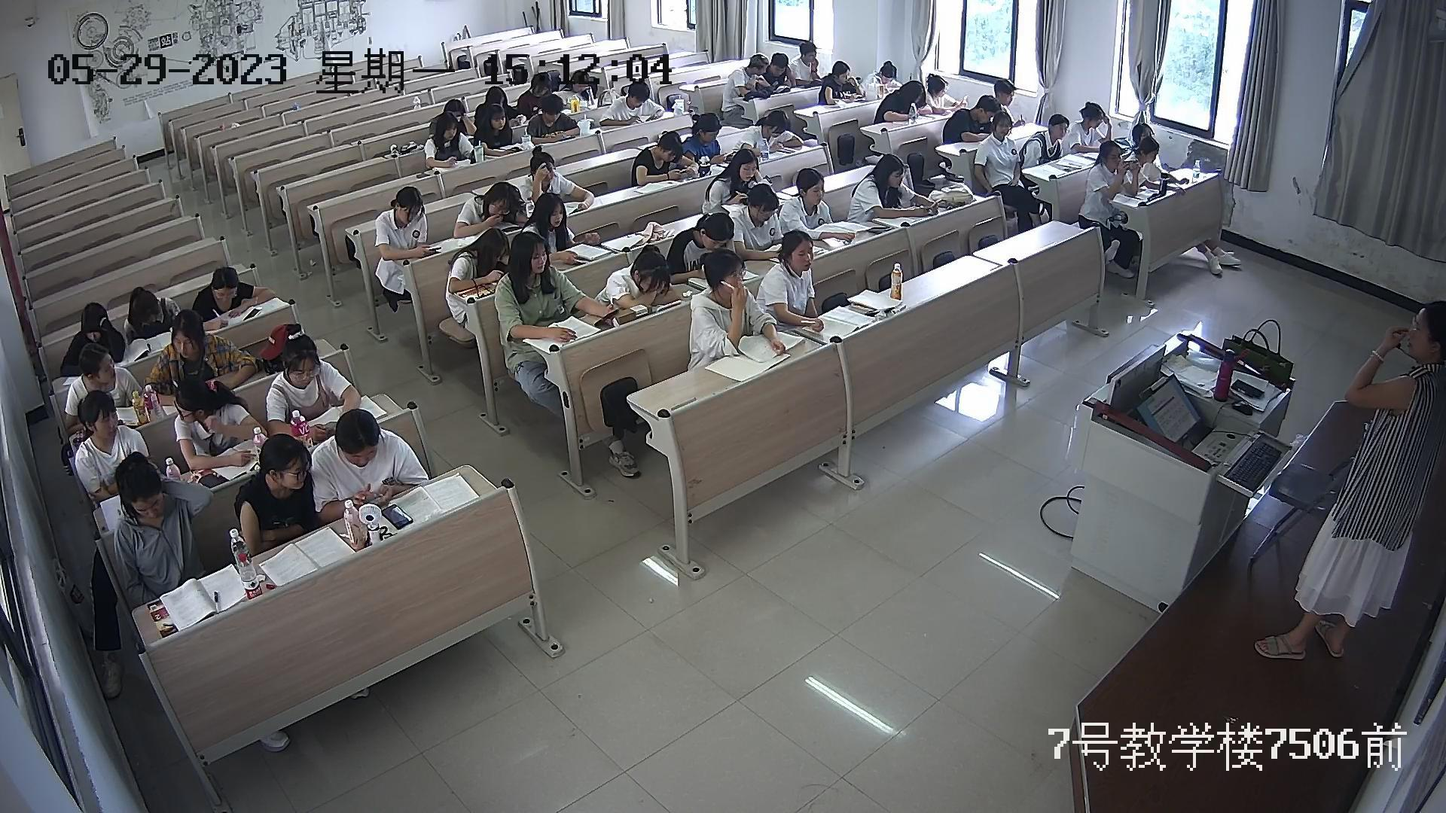Bend Over The Desk: (617, 248, 675, 303)
Look Around: (173, 381, 229, 428), (166, 315, 215, 367), (82, 349, 128, 384), (86, 397, 122, 438)
Normal: (483, 105, 526, 150), (795, 40, 826, 85)
Stand Up: (1306, 277, 1435, 681)
phone: (585, 307, 620, 330), (367, 487, 398, 509), (1120, 155, 1141, 176), (775, 141, 796, 157), (418, 243, 443, 256), (569, 199, 588, 215), (927, 195, 943, 213), (320, 416, 335, 435), (718, 148, 734, 163), (677, 166, 692, 180), (644, 112, 656, 123)
